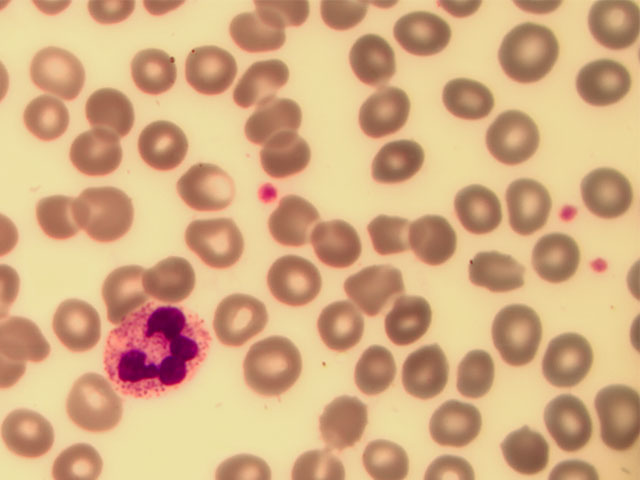Platelets: (558, 200, 580, 224), (590, 253, 608, 277), (260, 182, 277, 204)
RBC: (28, 43, 80, 100), (26, 96, 78, 153), (83, 77, 135, 134), (72, 124, 124, 181), (139, 121, 191, 178), (181, 154, 233, 211), (86, 184, 138, 241), (35, 185, 87, 242), (45, 297, 97, 354), (1, 313, 53, 370), (3, 397, 55, 454), (64, 382, 116, 439), (52, 423, 104, 480), (249, 340, 301, 397), (219, 287, 271, 344), (144, 246, 196, 303), (99, 254, 151, 311), (185, 214, 237, 271), (270, 190, 322, 247), (271, 140, 323, 197), (251, 98, 303, 155), (236, 58, 288, 115), (190, 42, 242, 99), (129, 42, 181, 99), (237, 1, 289, 58), (343, 31, 395, 88), (398, 9, 450, 66), (443, 63, 495, 120), (360, 85, 412, 142), (375, 137, 427, 194), (364, 209, 416, 266), (412, 213, 464, 270), (311, 212, 363, 269), (269, 253, 321, 310), (313, 298, 365, 355), (351, 261, 403, 318), (392, 292, 444, 349), (348, 348, 400, 405), (312, 395, 364, 452), (364, 423, 416, 480), (430, 397, 482, 454), (456, 339, 508, 396), (399, 348, 451, 405), (490, 312, 542, 369), (544, 329, 596, 386), (550, 395, 602, 452), (499, 423, 551, 480), (588, 390, 640, 447), (474, 238, 526, 295), (453, 186, 505, 243), (494, 181, 546, 238), (487, 106, 539, 163), (504, 25, 556, 82), (579, 51, 631, 108), (584, 176, 636, 233), (285, 447, 349, 480)
WBC: (102, 305, 208, 396)
